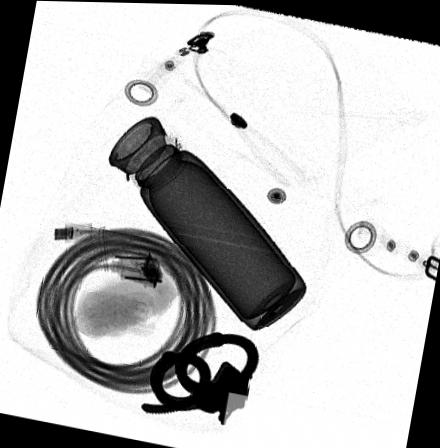HandCuffs: (140, 329, 258, 424)
